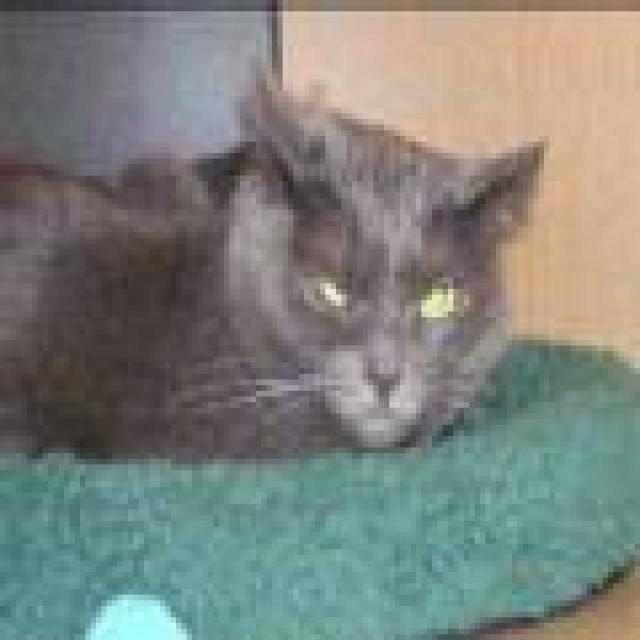cat: (0, 50, 549, 464)
